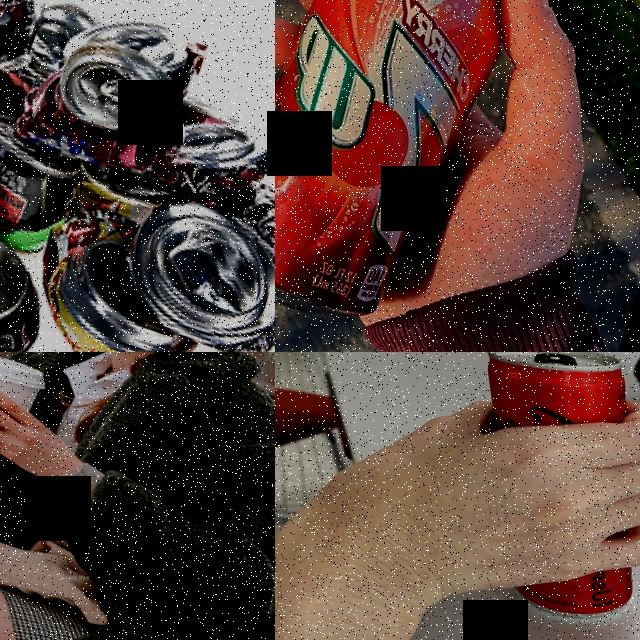can: (275, 0, 525, 346), (413, 352, 640, 640)
cup: (0, 352, 53, 456)
